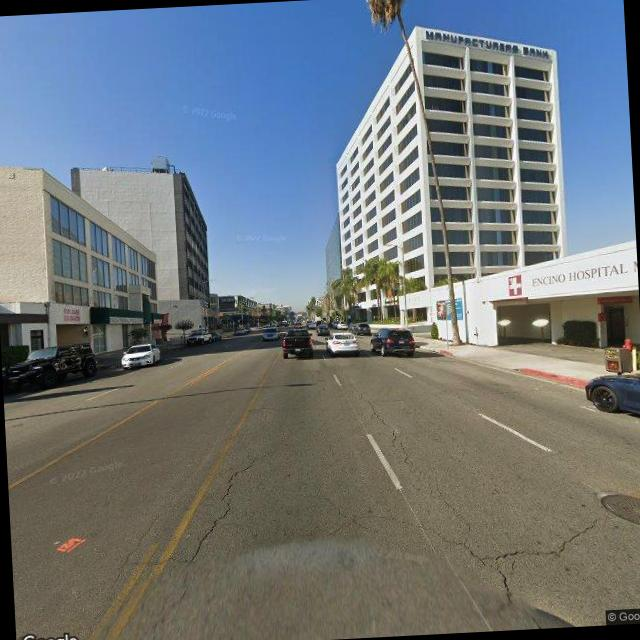crack: (328, 478, 605, 630)
pothole: (178, 449, 270, 564), (344, 372, 413, 468), (107, 512, 165, 580)
